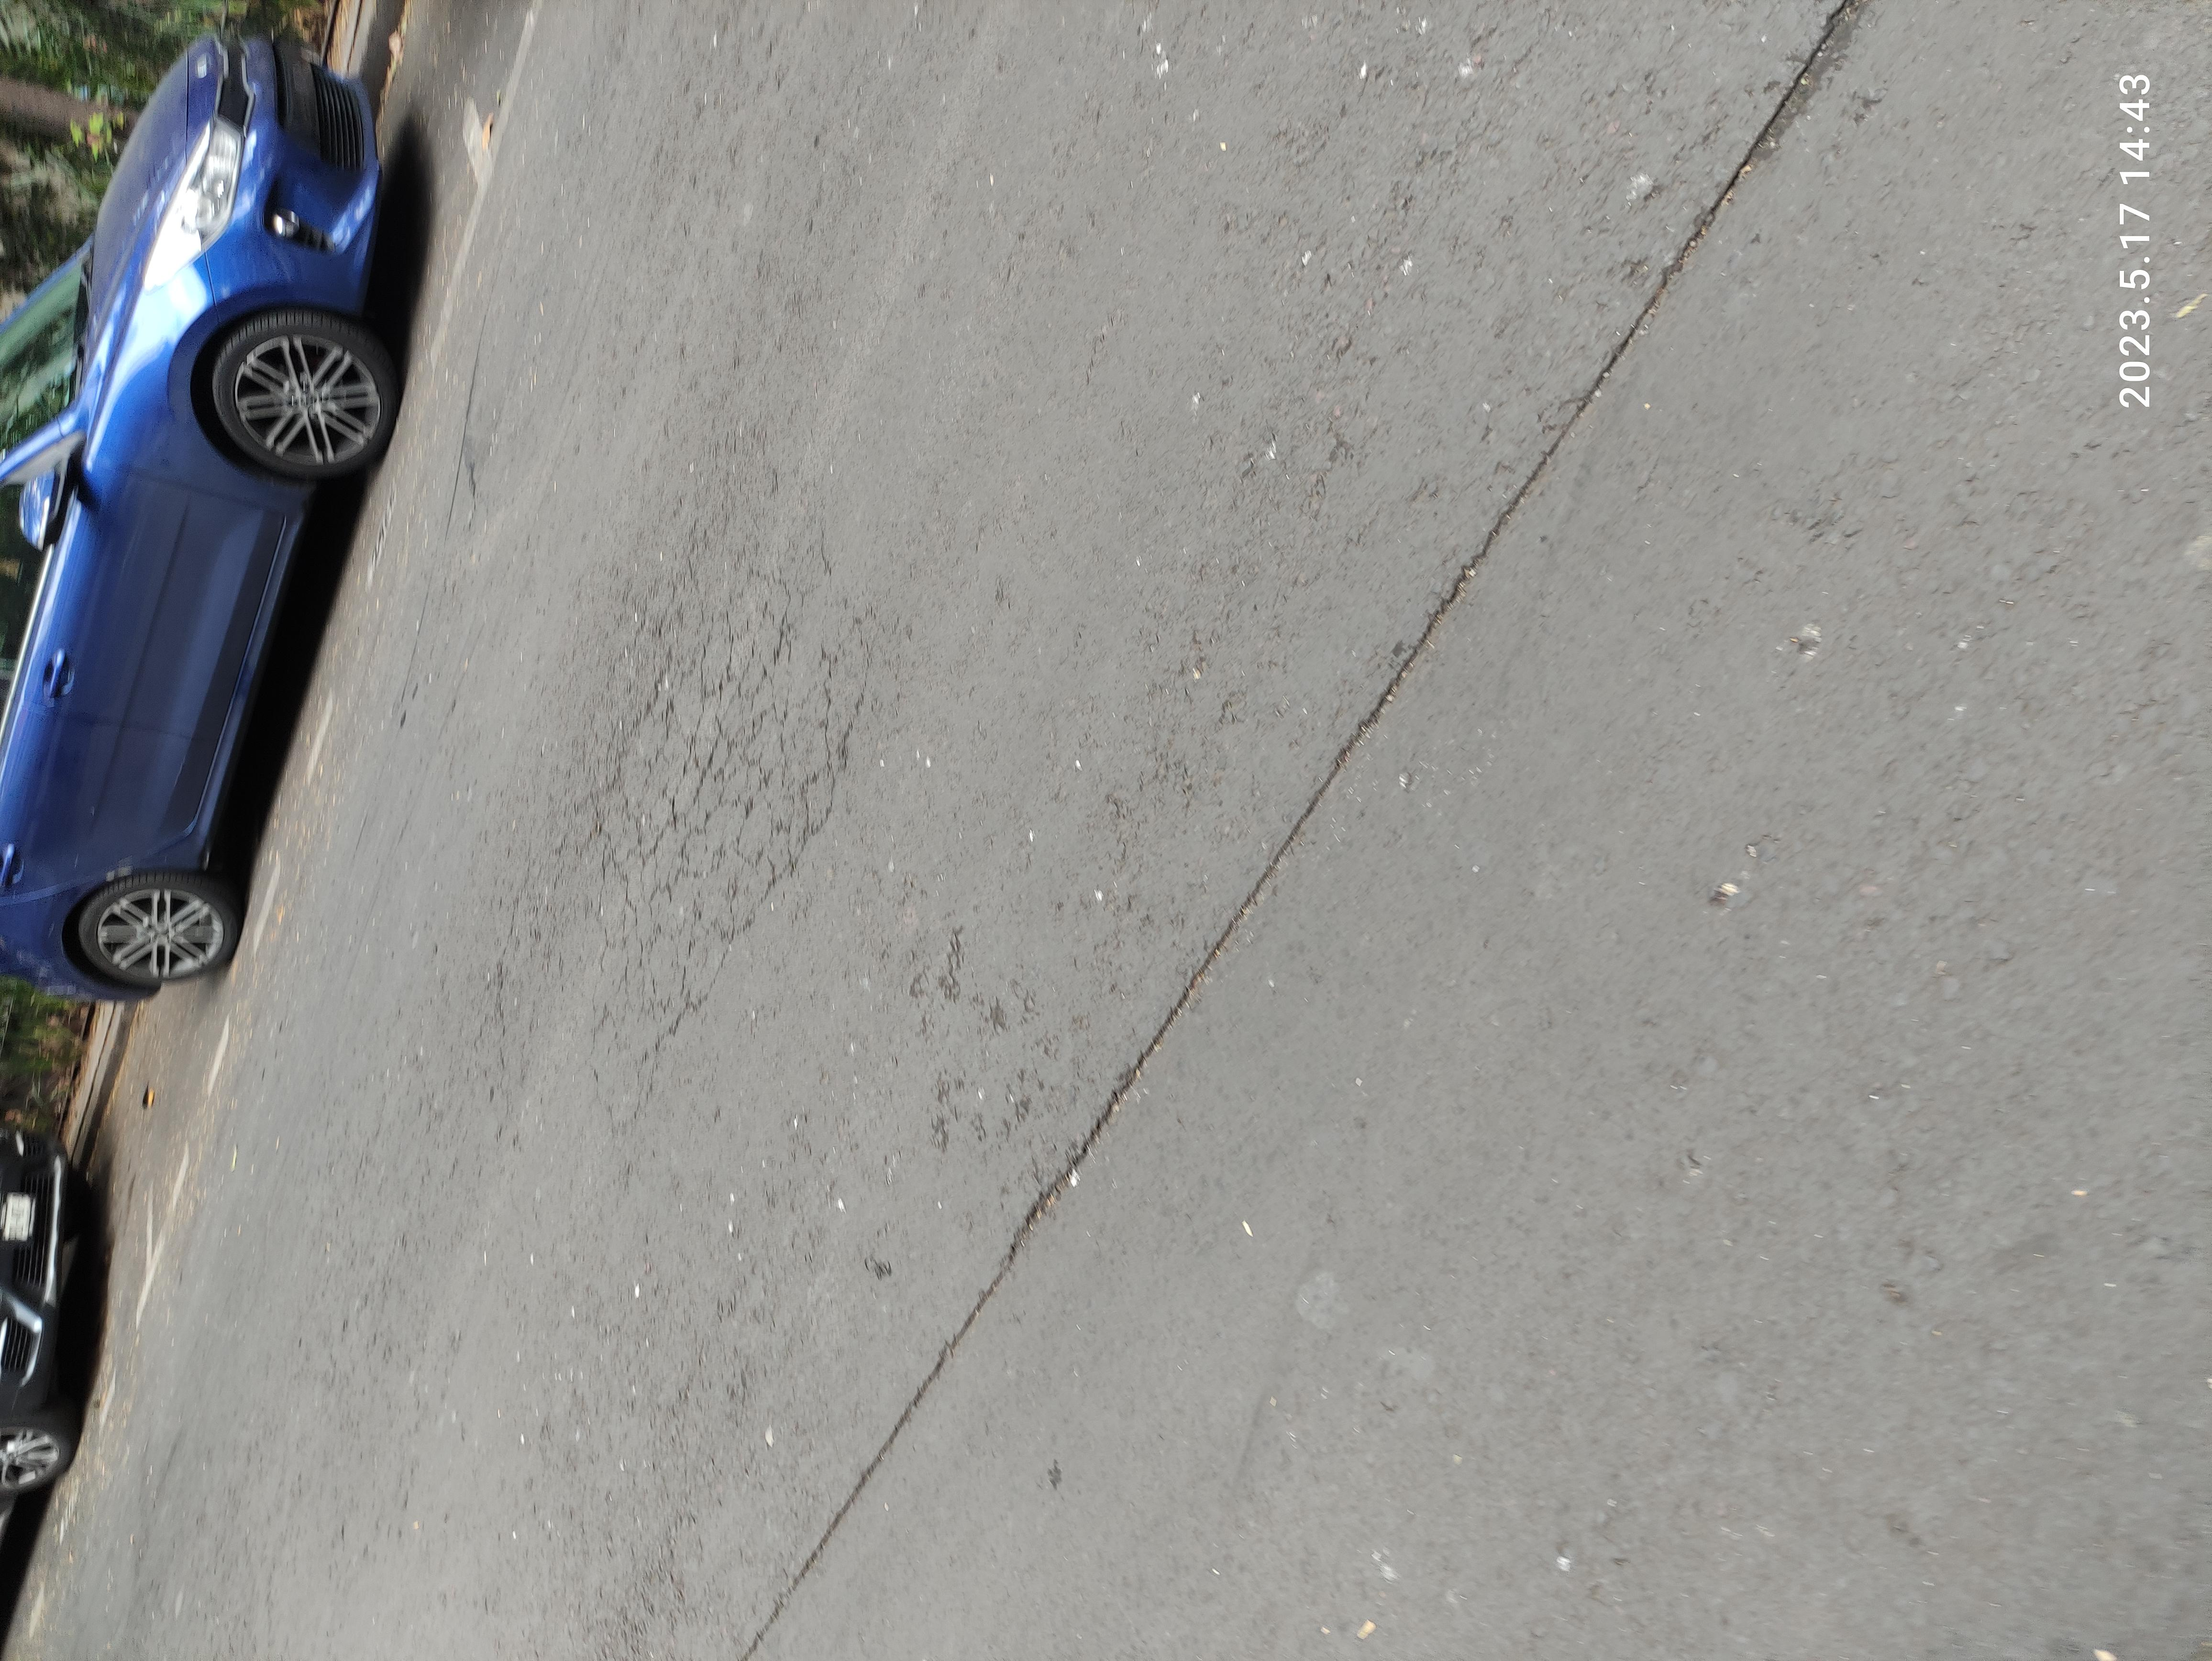alligator-crack: (700, 373, 1631, 661)
crack: (712, 801, 2209, 1401), (7, 532, 687, 799)
